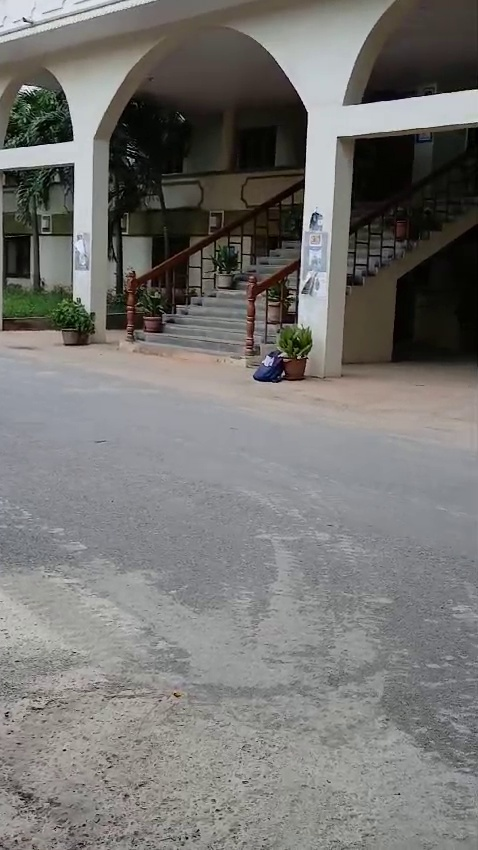bag: (252, 345, 289, 384)
